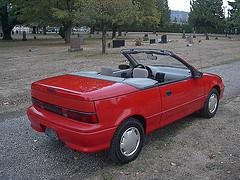Car: (23, 40, 232, 168)
